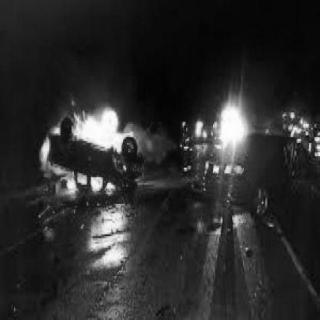Fire: (220, 99, 248, 150)
